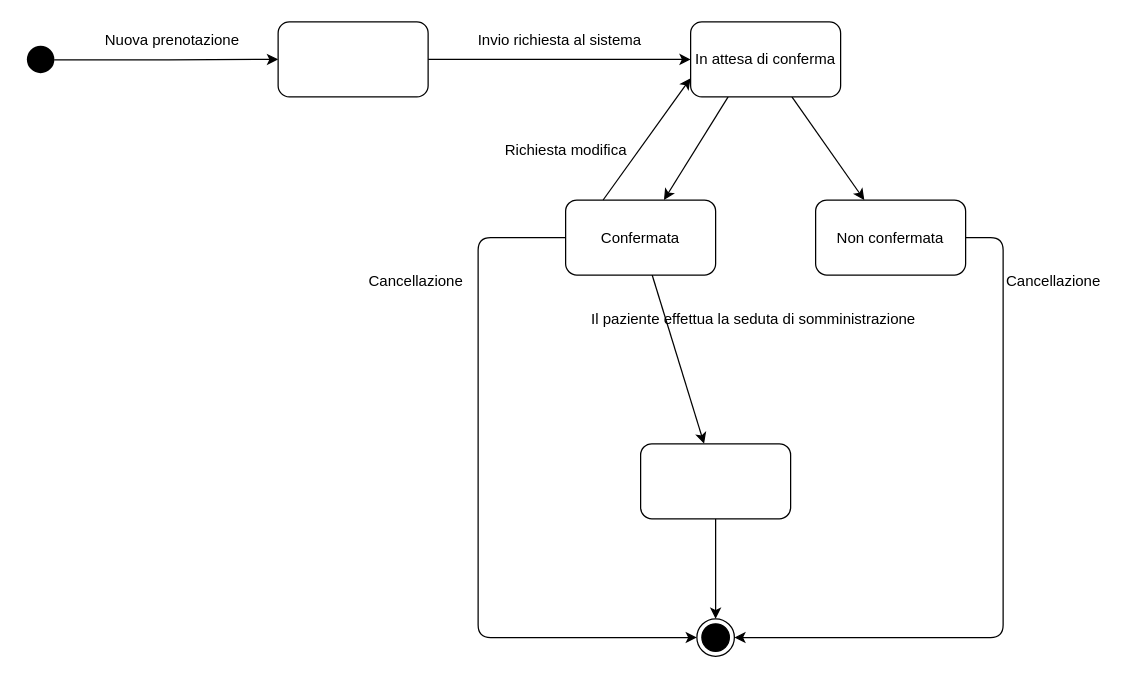
Image size: 1136x679. Some labels were removed from this diagram. Here are the shapes that lost their labels. From the top down, the box of each, then its label:
(277, 21, 428, 97): Creata
(639, 442, 791, 519): Chiuso
